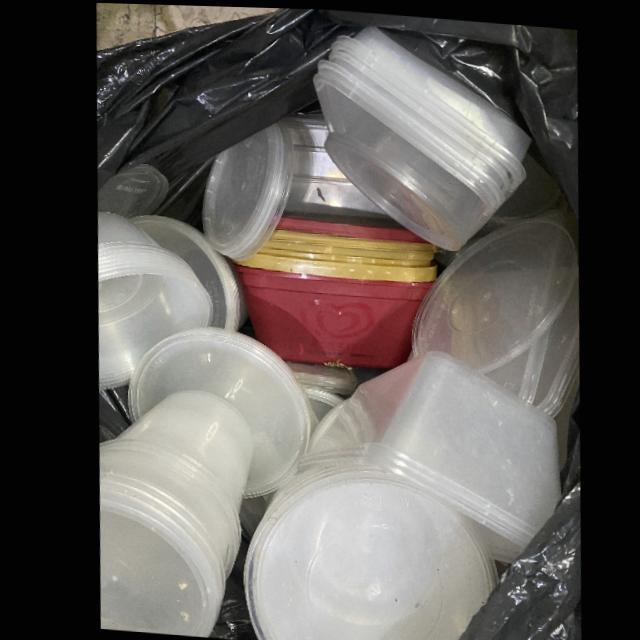plastic: (294, 349, 555, 561), (312, 24, 531, 251), (237, 455, 493, 640), (93, 390, 248, 637), (123, 326, 307, 498), (230, 216, 438, 367), (94, 211, 209, 391)
